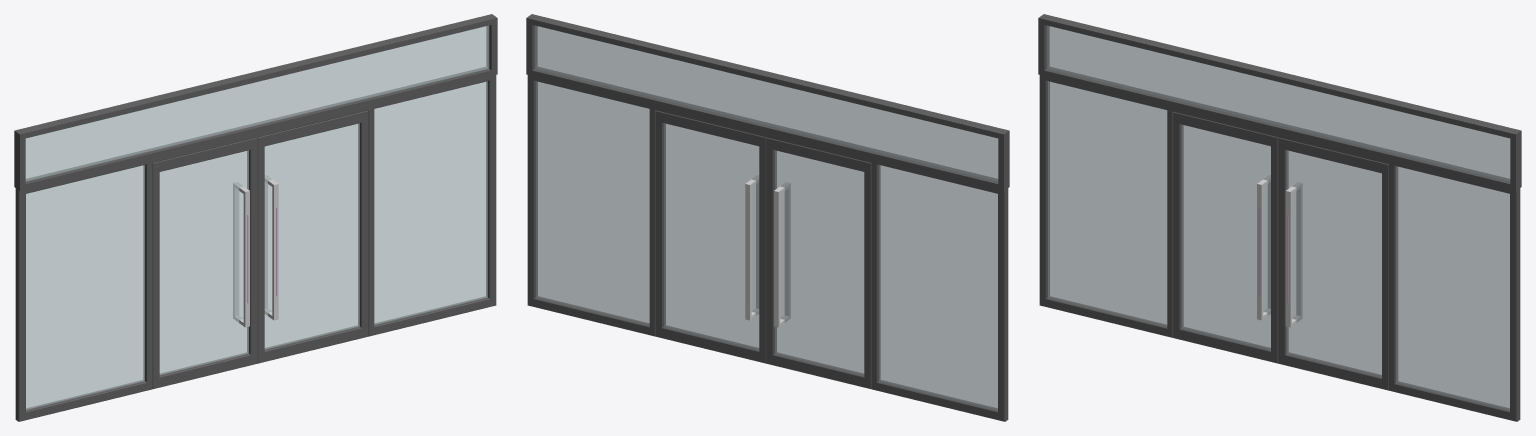
Rendered from 灵空门.fbx.
The picture shows the model from 3 angles, left to right: view 1: azimuth 30°, elevation 25°; view 2: azimuth 150°, elevation 25°; view 3: azimuth 330°, elevation 25°; orthographic projection.
Visible parts, largest first — view 1: pCube4; view 2: pCube4; view 3: pCube4.
Part boxes in pixels (x1,y1,x2,y2): pCube4: [14, 14, 497, 421]; pCube4: [526, 14, 1009, 421]; pCube4: [1038, 14, 1521, 421].
Size of the model in its own units: 434 by 250 by 19.74.
